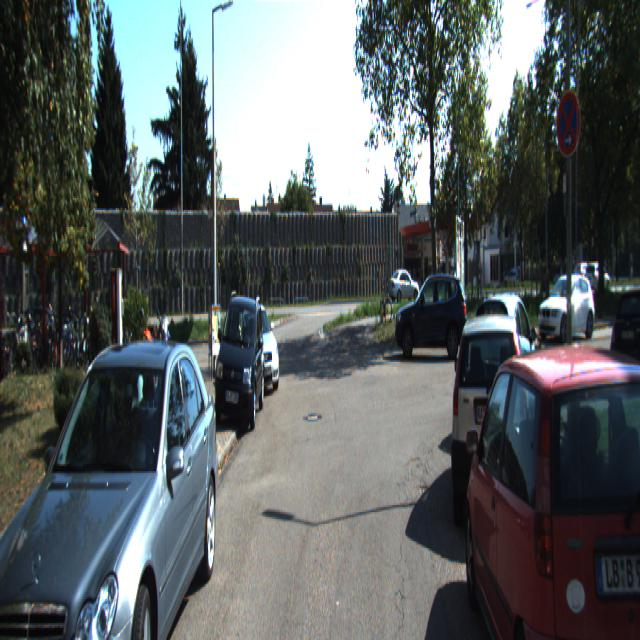Car: (0, 340, 223, 638), (456, 285, 640, 638), (447, 306, 529, 552), (466, 280, 543, 450), (212, 290, 266, 440), (393, 267, 470, 361), (231, 298, 282, 398), (534, 279, 596, 347), (606, 281, 640, 395), (386, 265, 422, 305)
